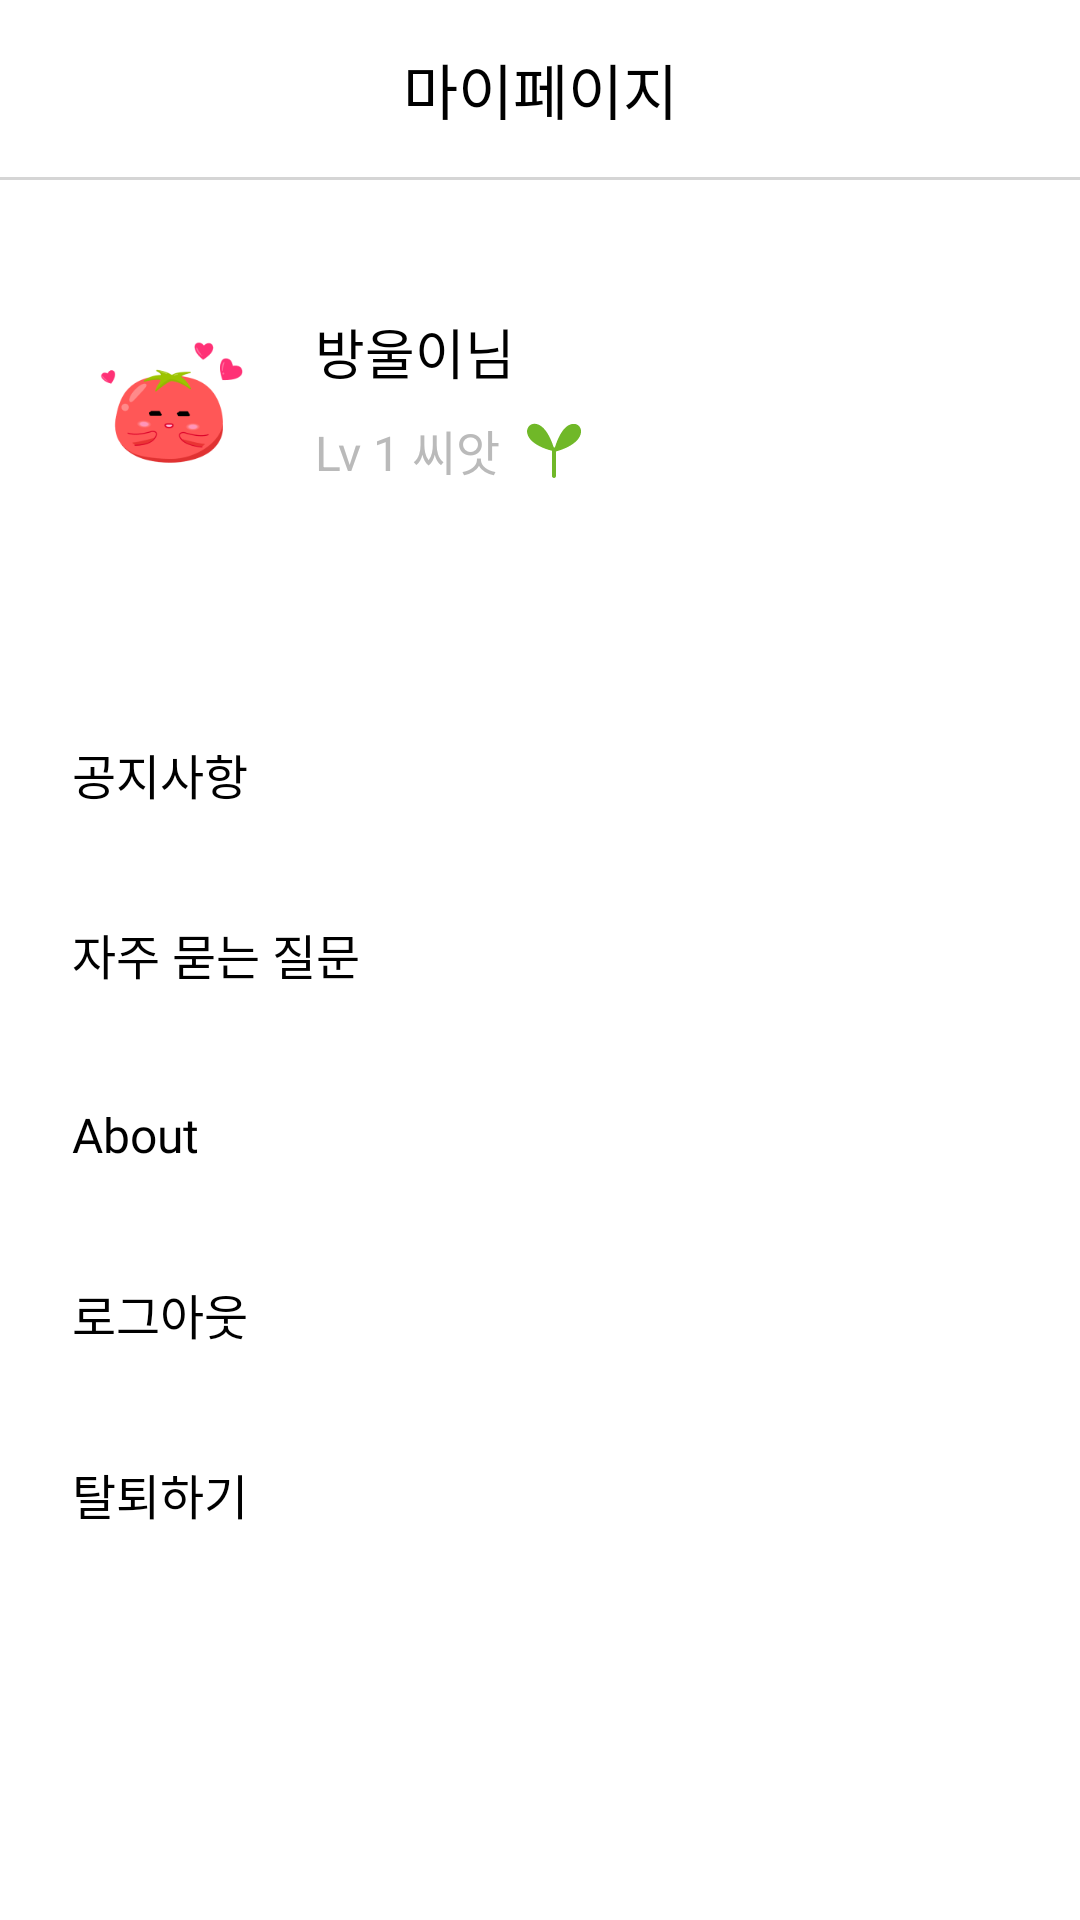

Icon bounding boxes for this 1080w x 1920h phone screenshot, format (x1, y1, x2, y2):
happy tomato: (101, 342, 243, 463)
level: (527, 423, 581, 478)
